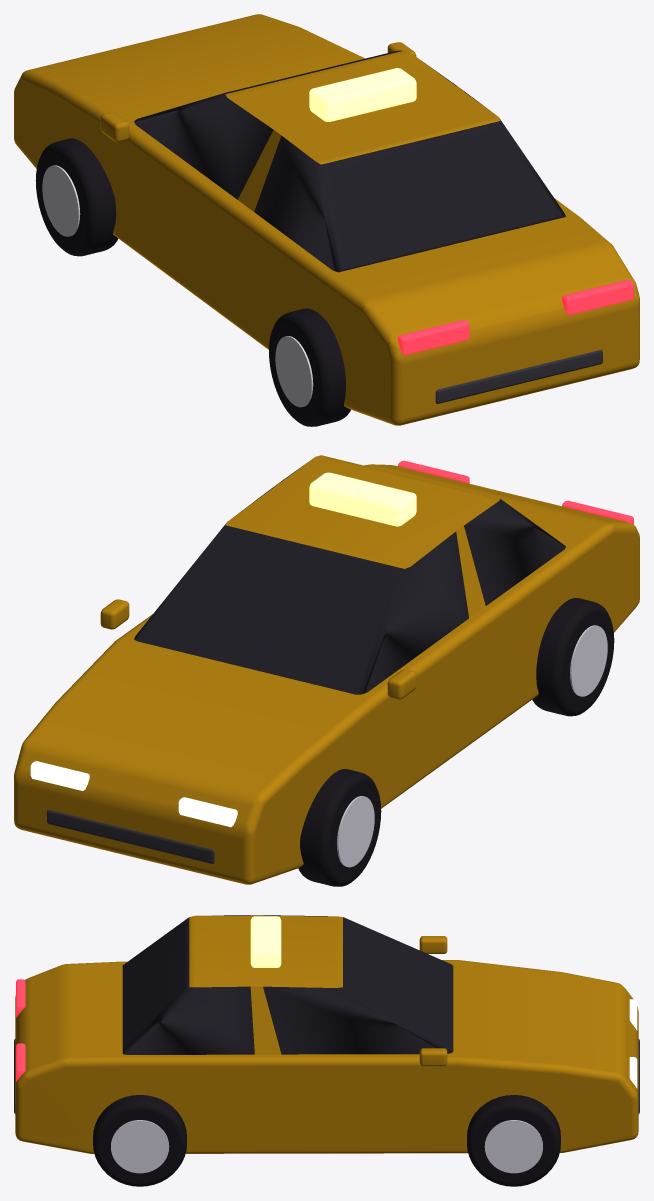
The model's file is car_taxi.glb.
3 views of the same model, one above another, from view 1: azimuth 30°, elevation 25°; view 2: azimuth 150°, elevation 25°; view 3: azimuth 270°, elevation 25° (orthographic). The views are drawn at different scales.
Visible parts, largest first — view 1: Body, Cabin, W-11Tyre, W-1-1Tyre, RoofSign, RearStrip, W-11Rim, W-1-1Rim, Tail-1, Tail1, Mirror-1; view 2: Body, Cabin, W-11Tyre, W-1-1Tyre, RoofSign, FrontStrip, W-1-1Rim, W-11Rim, Head-1, Head1, Mirror1, Mirror-1; view 3: Body, Cabin, W11Tyre, W1-1Tyre, W1-1Rim, W11Rim, RoofSign, Mirror1, Mirror-1.
Boxes of the visible parts, bbox=[...] form: Body: bbox=[14, 14, 639, 425]; Cabin: bbox=[134, 50, 565, 272]; W-11Tyre: bbox=[35, 138, 118, 256]; W-1-1Tyre: bbox=[269, 308, 350, 426]; RoofSign: bbox=[309, 68, 416, 121]; RearStrip: bbox=[435, 350, 602, 403]; W-11Rim: bbox=[42, 165, 80, 236]; W-1-1Rim: bbox=[275, 336, 313, 407]; Tail-1: bbox=[397, 320, 469, 355]; Tail1: bbox=[561, 280, 633, 315]; Mirror-1: bbox=[100, 112, 129, 142]; Body: bbox=[14, 464, 639, 884]; Cabin: bbox=[134, 455, 565, 694]; W-11Tyre: bbox=[298, 769, 381, 886]; W-1-1Tyre: bbox=[532, 598, 614, 716]; RoofSign: bbox=[309, 472, 416, 526]; FrontStrip: bbox=[47, 810, 214, 863]; W-1-1Rim: bbox=[570, 625, 607, 696]; W-11Rim: bbox=[337, 796, 374, 867]; Head-1: bbox=[178, 797, 237, 827]; Head1: bbox=[30, 761, 89, 790]; Mirror1: bbox=[100, 599, 129, 629]; Mirror-1: bbox=[387, 669, 416, 699]; Body: bbox=[15, 960, 638, 1153]; Cabin: bbox=[122, 915, 453, 1054]; W11Tyre: bbox=[467, 1095, 560, 1186]; W1-1Tyre: bbox=[93, 1095, 186, 1186]; W1-1Rim: bbox=[111, 1120, 169, 1173]; W11Rim: bbox=[484, 1120, 542, 1173]; RoofSign: bbox=[250, 916, 281, 967]; Mirror1: bbox=[419, 1048, 447, 1066]; Mirror-1: bbox=[419, 936, 447, 953].
Size of the model in its own units: 2.02 by 1.59 by 4.52.
